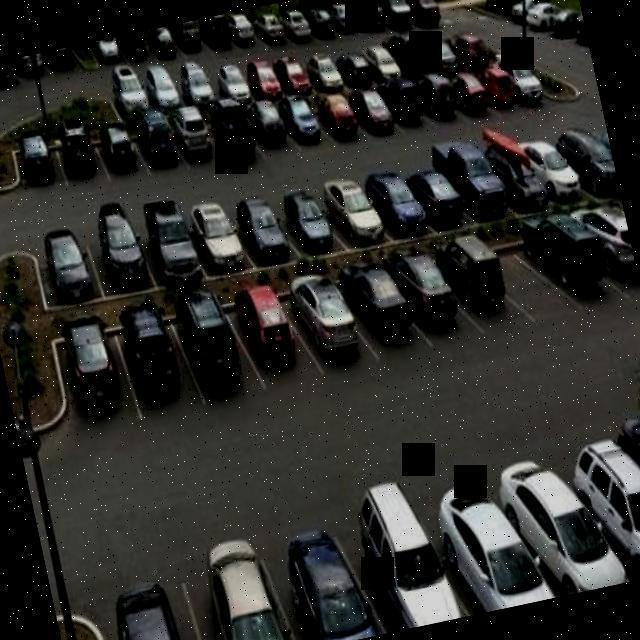space-empty: (482, 219, 576, 328)
space-occupied: (494, 433, 639, 604), (421, 476, 554, 620), (348, 496, 470, 636), (558, 406, 640, 589), (266, 519, 389, 640), (165, 287, 272, 422), (274, 263, 381, 387), (215, 276, 319, 401), (175, 540, 303, 640), (107, 303, 206, 432), (511, 202, 619, 319), (47, 311, 139, 442), (427, 225, 526, 338), (336, 250, 430, 367), (388, 237, 476, 350), (438, 129, 524, 233), (80, 198, 154, 306), (31, 209, 104, 317), (91, 577, 216, 640), (568, 192, 640, 300), (485, 127, 559, 227), (404, 147, 476, 246), (523, 117, 593, 215), (137, 196, 206, 294), (363, 156, 436, 248), (320, 168, 394, 257), (278, 173, 348, 266), (188, 190, 257, 283), (238, 184, 306, 277), (557, 114, 622, 208), (609, 390, 640, 577), (205, 96, 268, 173), (130, 107, 186, 187), (50, 112, 106, 191), (91, 112, 148, 188), (170, 99, 222, 181), (11, 127, 67, 201), (499, 33, 551, 110), (277, 85, 329, 160), (378, 65, 432, 137), (311, 81, 363, 153), (444, 54, 493, 128), (473, 44, 520, 120), (414, 62, 463, 133), (347, 78, 395, 146), (248, 90, 293, 159), (385, 24, 440, 80), (102, 71, 157, 124), (299, 42, 349, 97), (141, 63, 188, 117), (268, 45, 315, 99), (449, 16, 496, 70), (240, 52, 287, 104), (362, 31, 407, 85), (421, 21, 464, 77), (209, 59, 257, 107), (176, 57, 220, 107), (335, 38, 378, 89), (248, 2, 289, 52), (193, 12, 236, 58), (301, 0, 345, 44), (220, 7, 262, 53), (347, 0, 391, 42), (324, 0, 366, 43), (276, 0, 315, 46), (142, 23, 184, 65), (168, 19, 208, 61), (372, 0, 417, 37), (534, 14, 584, 46), (520, 4, 570, 36), (85, 35, 128, 72), (114, 30, 156, 67), (10, 56, 51, 89), (42, 46, 80, 80), (407, 0, 446, 33), (497, 1, 538, 26), (554, 30, 589, 54), (0, 58, 19, 92)
